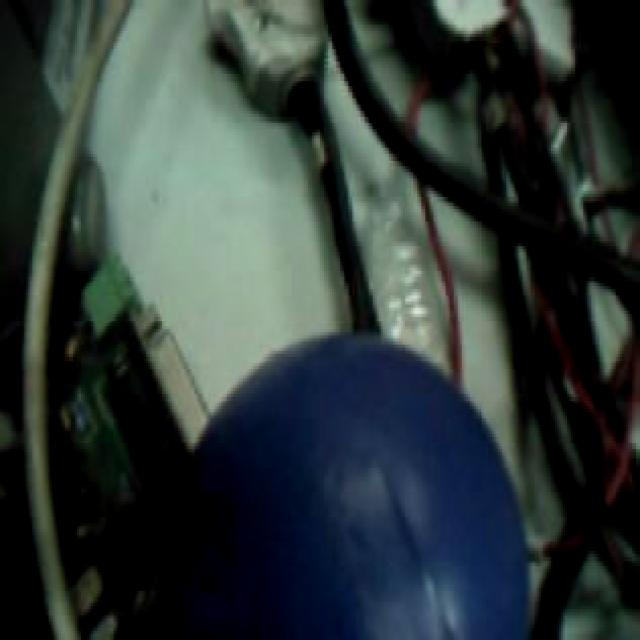BallPurple: (174, 332, 532, 640)
